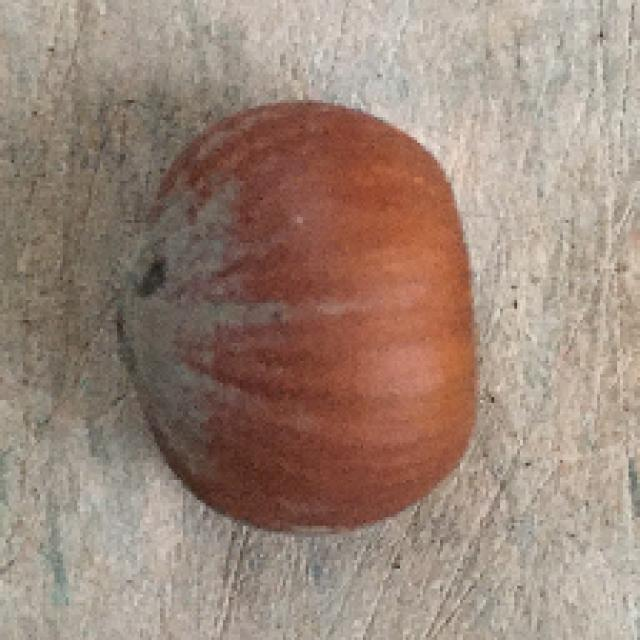damagedHazelnut: (106, 96, 492, 548)
